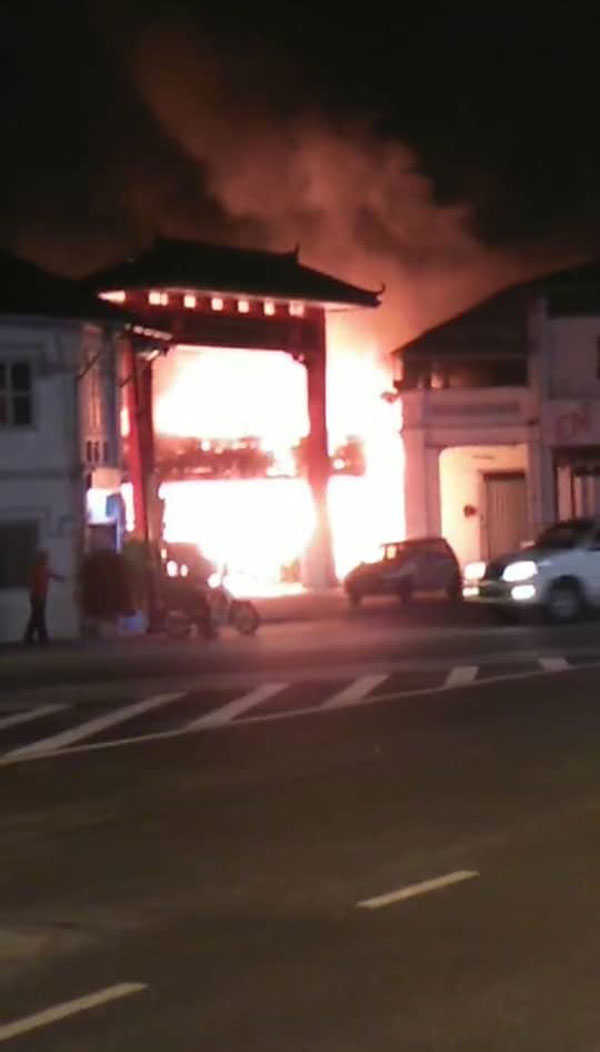fire: (131, 301, 415, 596)
